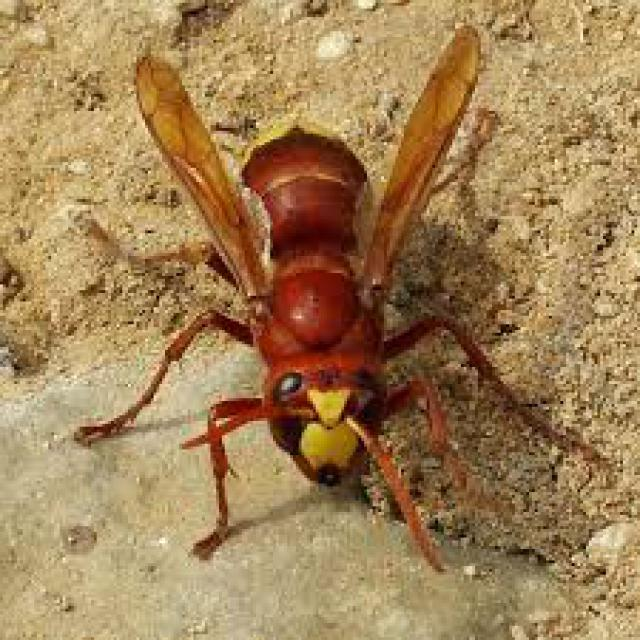Vespa Orientalis: (61, 14, 619, 592)
